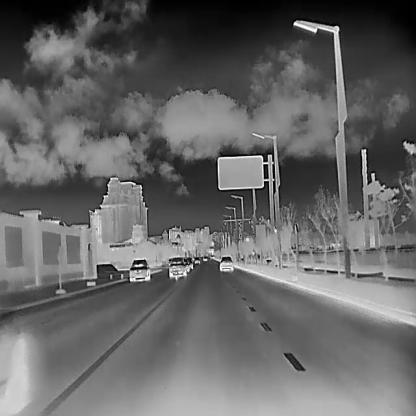car: (128, 258, 150, 280), (168, 255, 186, 276), (218, 255, 233, 271), (184, 256, 193, 268), (193, 255, 200, 263), (202, 254, 207, 260), (209, 254, 213, 259)
